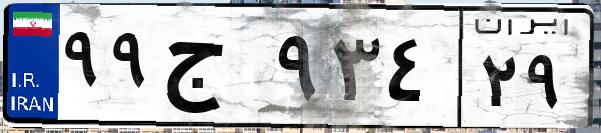2: (475, 38, 525, 113)
3: (330, 28, 385, 110)
4: (385, 28, 445, 110)
9: (270, 28, 330, 110), (57, 26, 110, 100), (525, 38, 570, 115), (110, 28, 158, 98)
ج: (158, 20, 270, 120)
